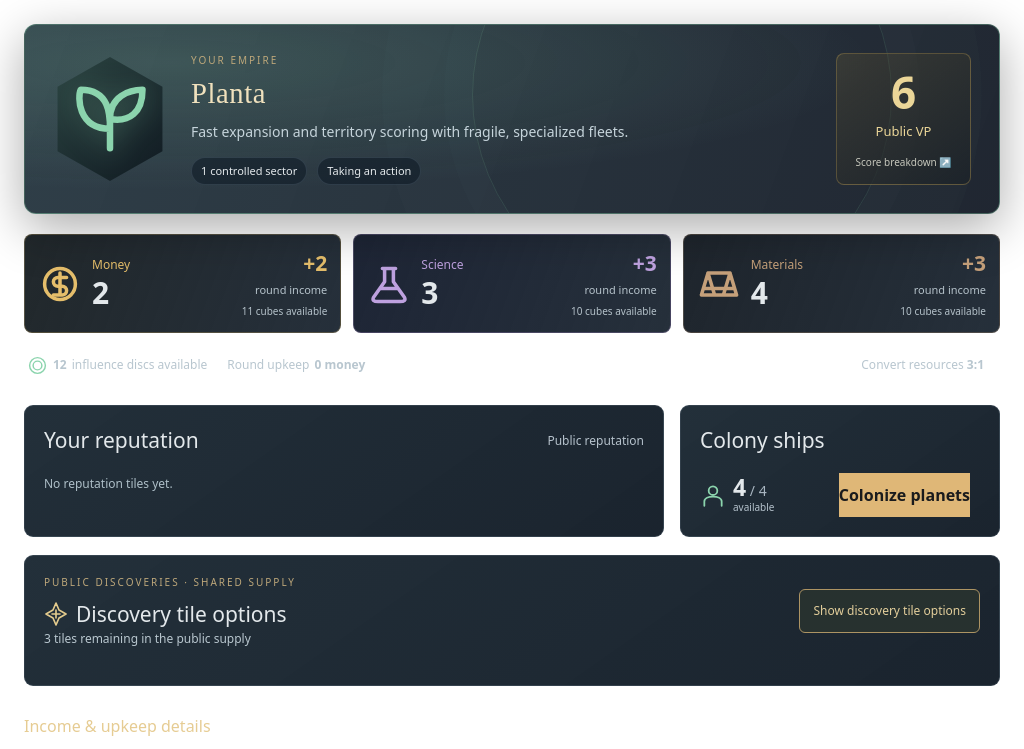
Test: opens every Less Random discovery type from Command Center, with current duplicate counts and revised missile stats
The width and height of the screenshot is (1024, 749).
Click the button "Show discovery tile options" at (890, 611), box [799,589,980,633]
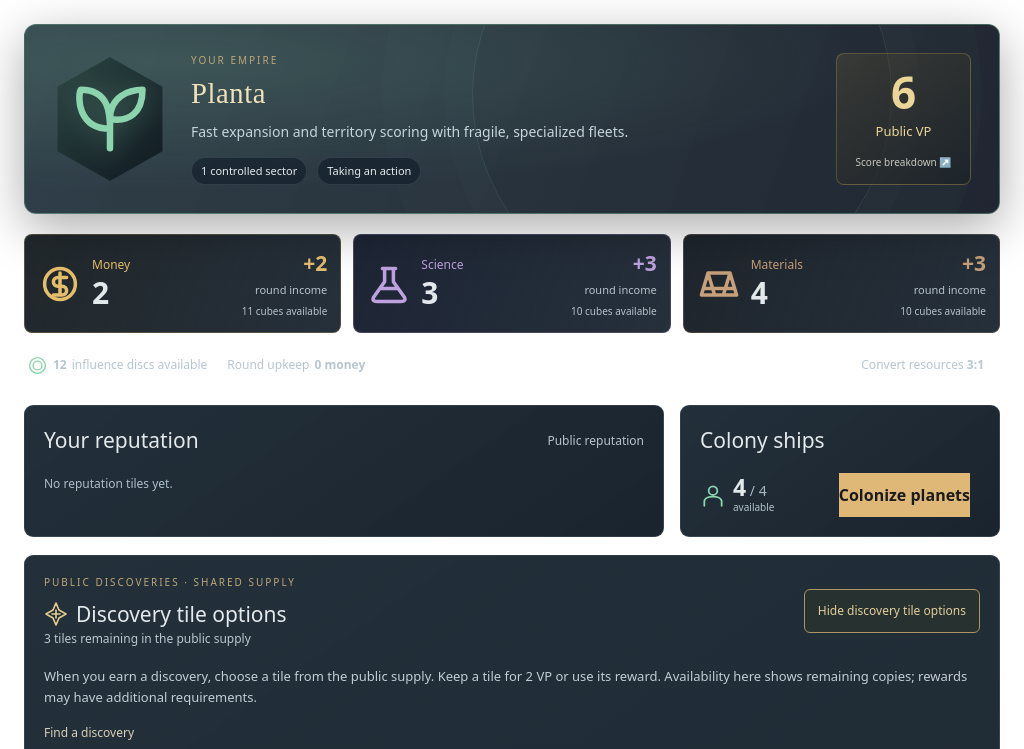
Result: the text "Keep a tile for 2 VP" is shown at [44,667,967,706]
